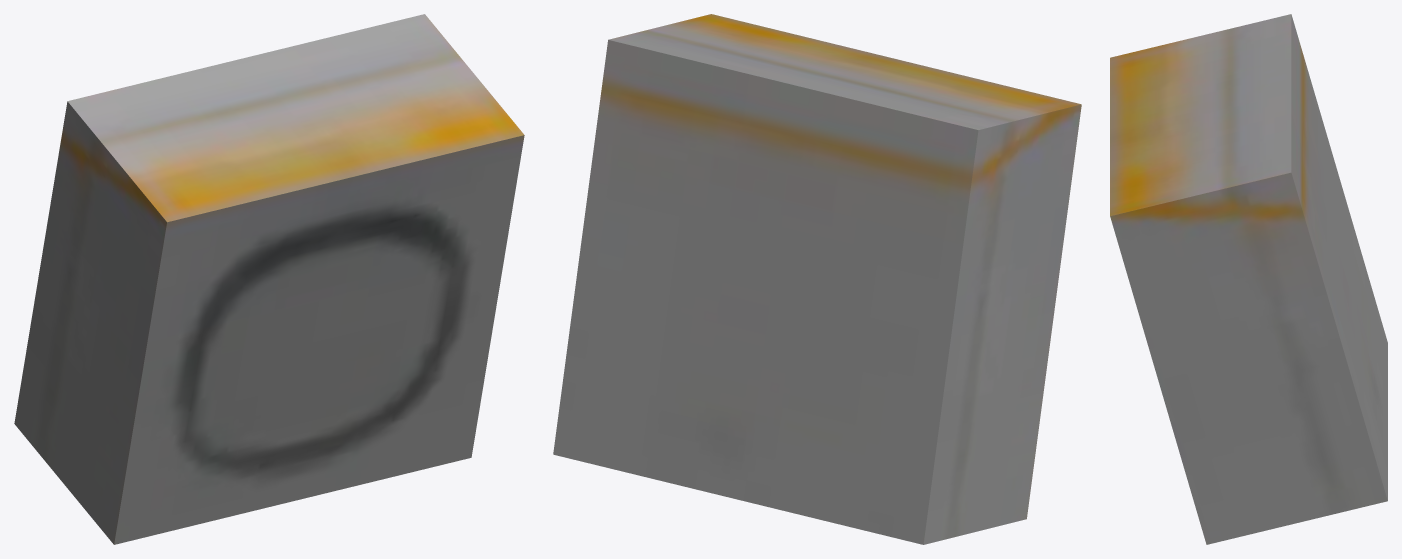
Rendered from cabinet__left_button_sleeve.glb.
3 renders of one model, left to right at view 1: azimuth 30°, elevation 25°; view 2: azimuth 150°, elevation 25°; view 3: azimuth 270°, elevation 25°, orthographic. The views are drawn at different scales.
Parts seen in each view (by area): view 1: geometry_0; view 2: geometry_0; view 3: geometry_0.
Boxes of the visible parts, x1,y1,x2,y2 form: geometry_0: [14, 14, 524, 544]; geometry_0: [553, 14, 1081, 544]; geometry_0: [1110, 14, 1387, 544].
Bounding box in the file's own units: 0.056 × 0.0613 × 0.0415.
Materials: 1 (1 with a texture image).
